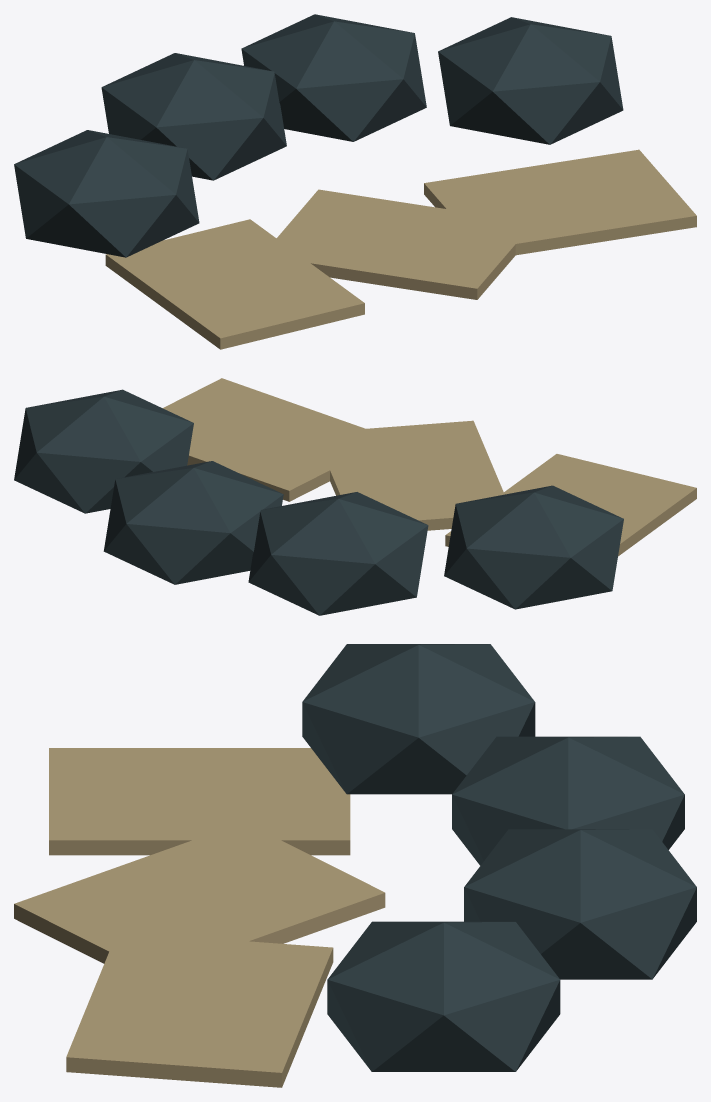
File: road_debris.glb
3 views of the same model, one above another, from view 1: azimuth 30°, elevation 25°; view 2: azimuth 150°, elevation 25°; view 3: azimuth 270°, elevation 25° (orthographic). The views are drawn at different scales.
Visible parts, largest first — view 1: DD_road_debris; view 2: DD_road_debris; view 3: DD_road_debris.
Part boxes in pixels (x1,y1,x2,y2): DD_road_debris: (14,14,696,349); DD_road_debris: (14,378,696,615); DD_road_debris: (14,644,696,1087).
Bounding box in the file's own units: 0.6589 × 0.12 × 0.4989.
